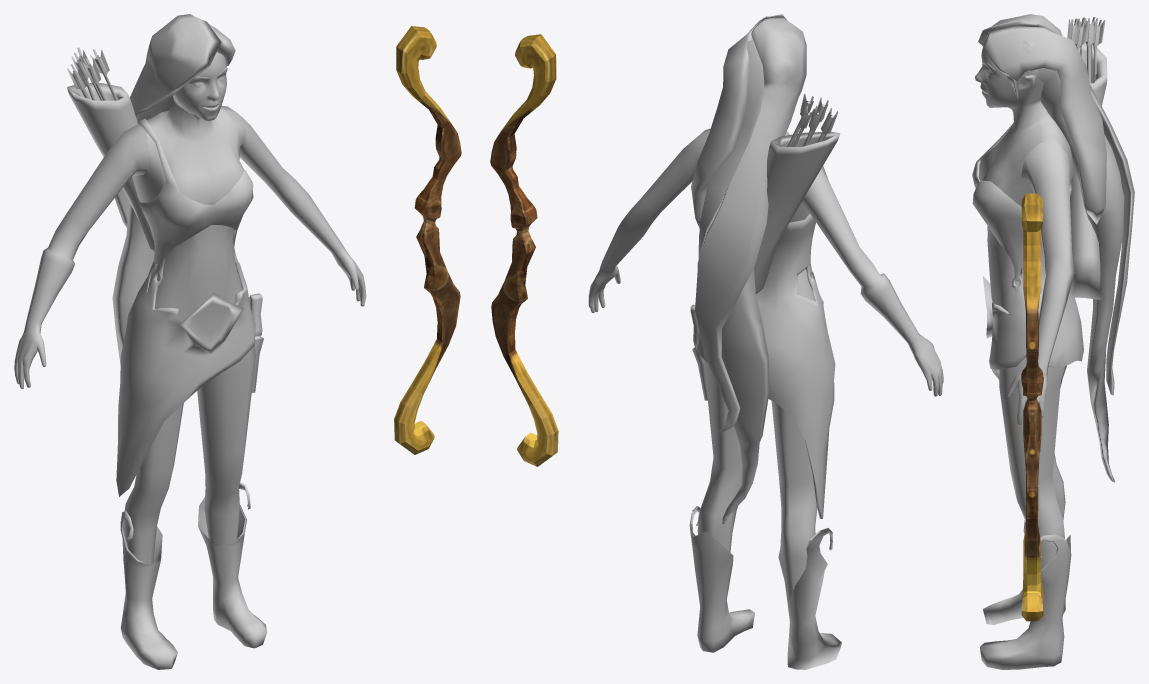
Rendered from NewArcher.FBX.
3 views of the same model, side by side, from view 1: azimuth 30°, elevation 25°; view 2: azimuth 150°, elevation 25°; view 3: azimuth 270°, elevation 25° (orthographic).
Parts seen in each view (by area): view 1: corset_low:ZBrush_defualt_group, bow1:ZBrush_defualt_group; view 2: corset_low:ZBrush_defualt_group, bow1:ZBrush_defualt_group; view 3: corset_low:ZBrush_defualt_group, bow1:ZBrush_defualt_group.
Part boxes in pixels (x1,y1,x2,y2): corset_low:ZBrush_defualt_group: [14, 14, 366, 669]; bow1:ZBrush_defualt_group: [394, 26, 461, 454]; corset_low:ZBrush_defualt_group: [588, 14, 943, 669]; bow1:ZBrush_defualt_group: [490, 34, 558, 466]; corset_low:ZBrush_defualt_group: [972, 14, 1134, 669]; bow1:ZBrush_defualt_group: [1021, 193, 1043, 621].
Size of the model in its own units: 50.97 by 68.87 by 16.19.
